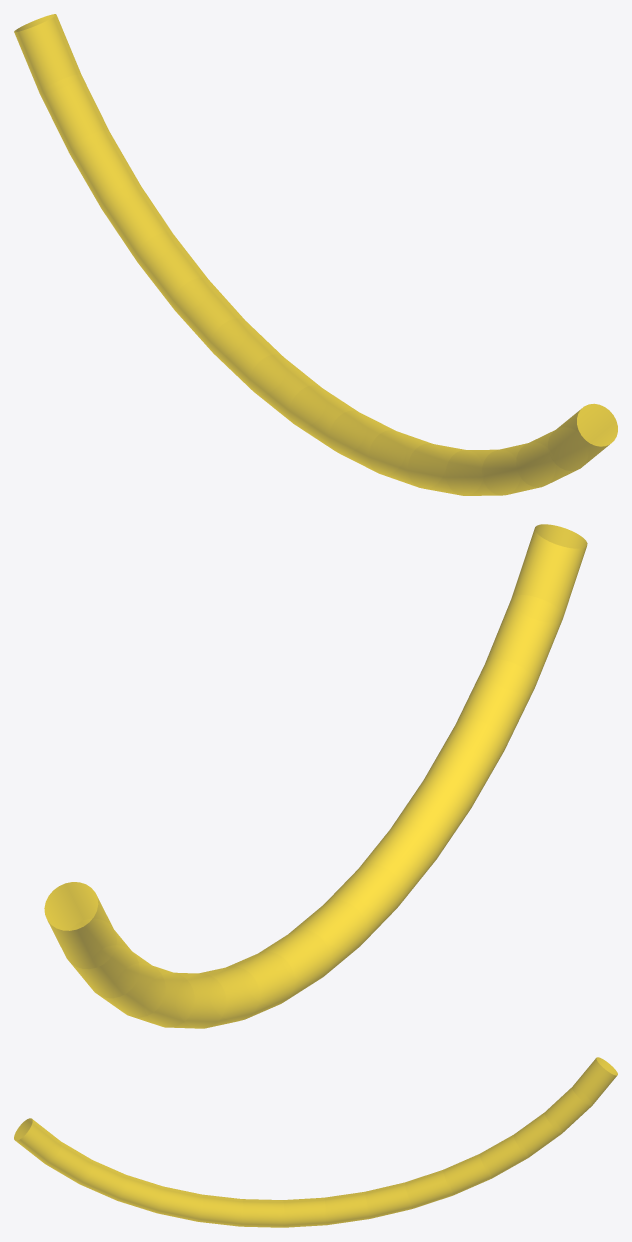
Rendered from Event_75125125_track_78.fbx.
3 renders of one model, top to bottom at view 1: azimuth 30°, elevation 25°; view 2: azimuth 150°, elevation 25°; view 3: azimuth 270°, elevation 25°, orthographic. The views are drawn at different scales.
Parts seen in each view (by area): view 1: Model; view 2: Model; view 3: Model.
Boxes of the visible parts, x1,y1,x2,y2 form: Model: [14, 14, 617, 495]; Model: [44, 524, 587, 1028]; Model: [14, 1057, 617, 1227].
Size of the model in its own units: 0.118 by 0.2466 by 0.871.
